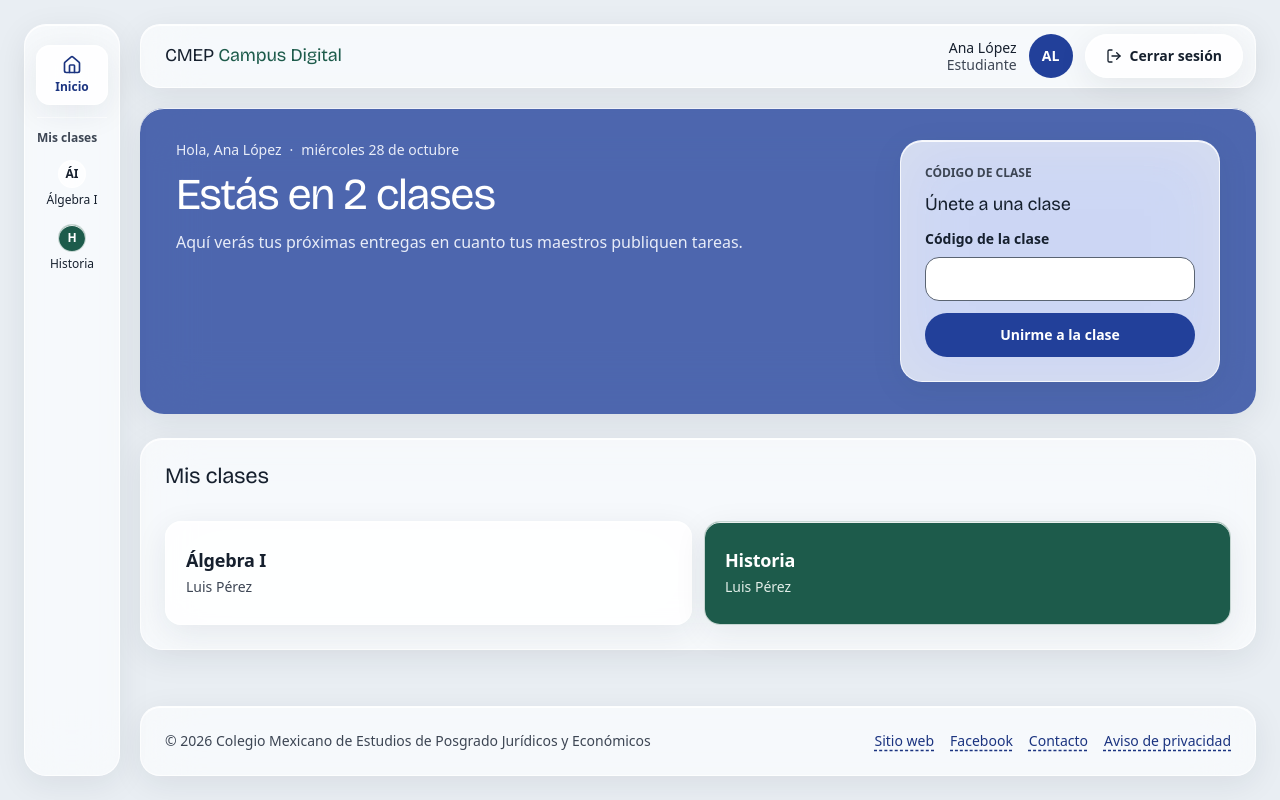
Scenario: ataque CLASES-02d r1: la barra al navegar, al unirse y al cambiar de cuenta › inicio → clase (por la tarjeta) → Personas → Muro → otra clase (por la barra) → Inicio: una sola petición de la barra
Click the link "Álgebra I Luis Pérez": (226, 560) x1=165 y1=521 x2=692 y2=625
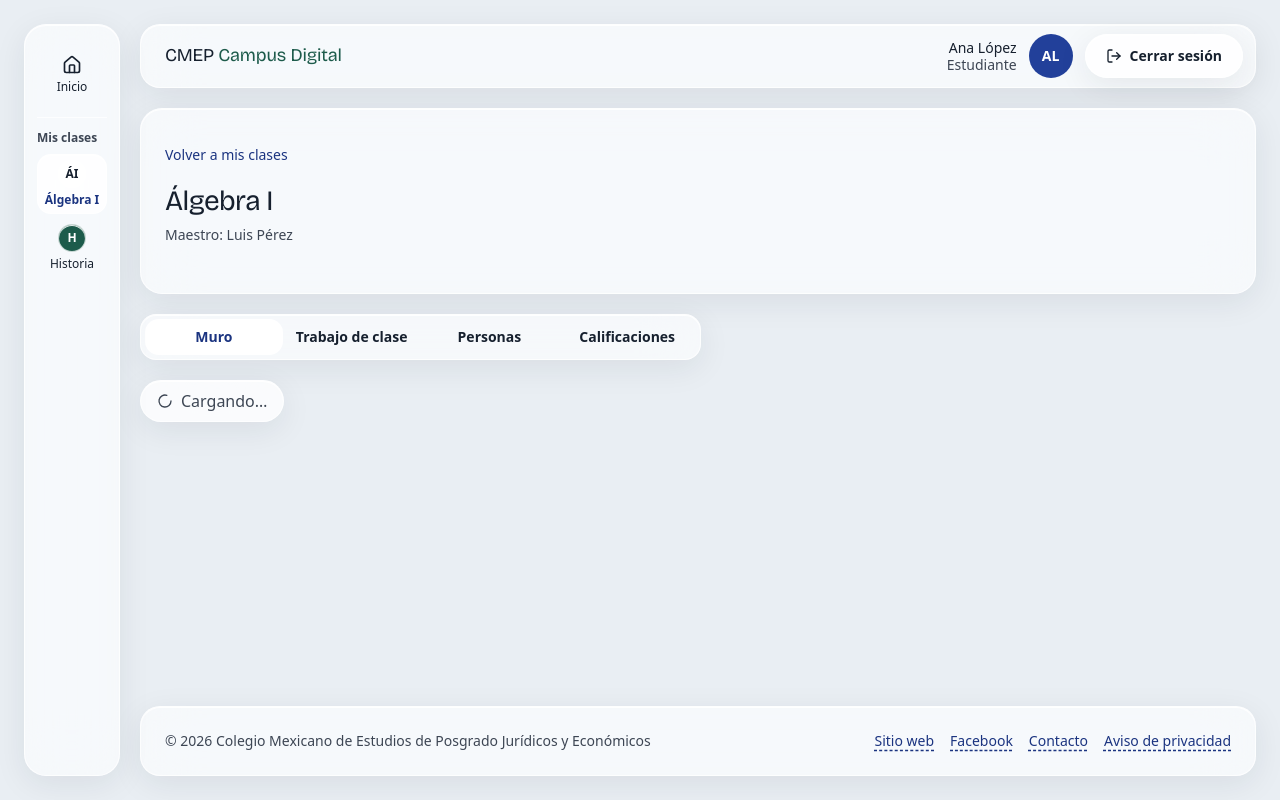
Expected: the heading "Álgebra I" is shown, x1=165 y1=184 x2=273 y2=218
Click the link "Personas": (489, 337) x1=458 y1=327 x2=521 y2=346
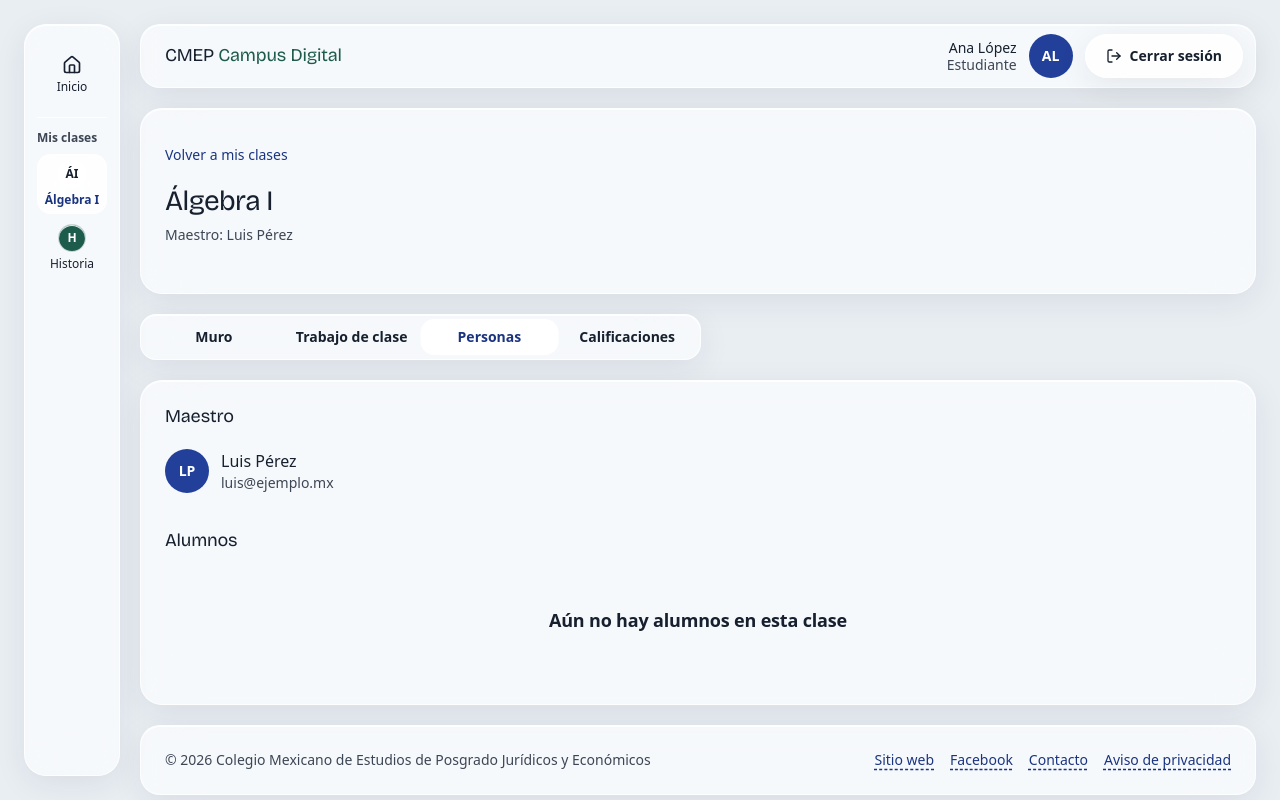
Expected: the heading "Alumnos" is shown, x1=165 y1=529 x2=237 y2=553
Click the link "Muro": (214, 337) x1=195 y1=327 x2=232 y2=346
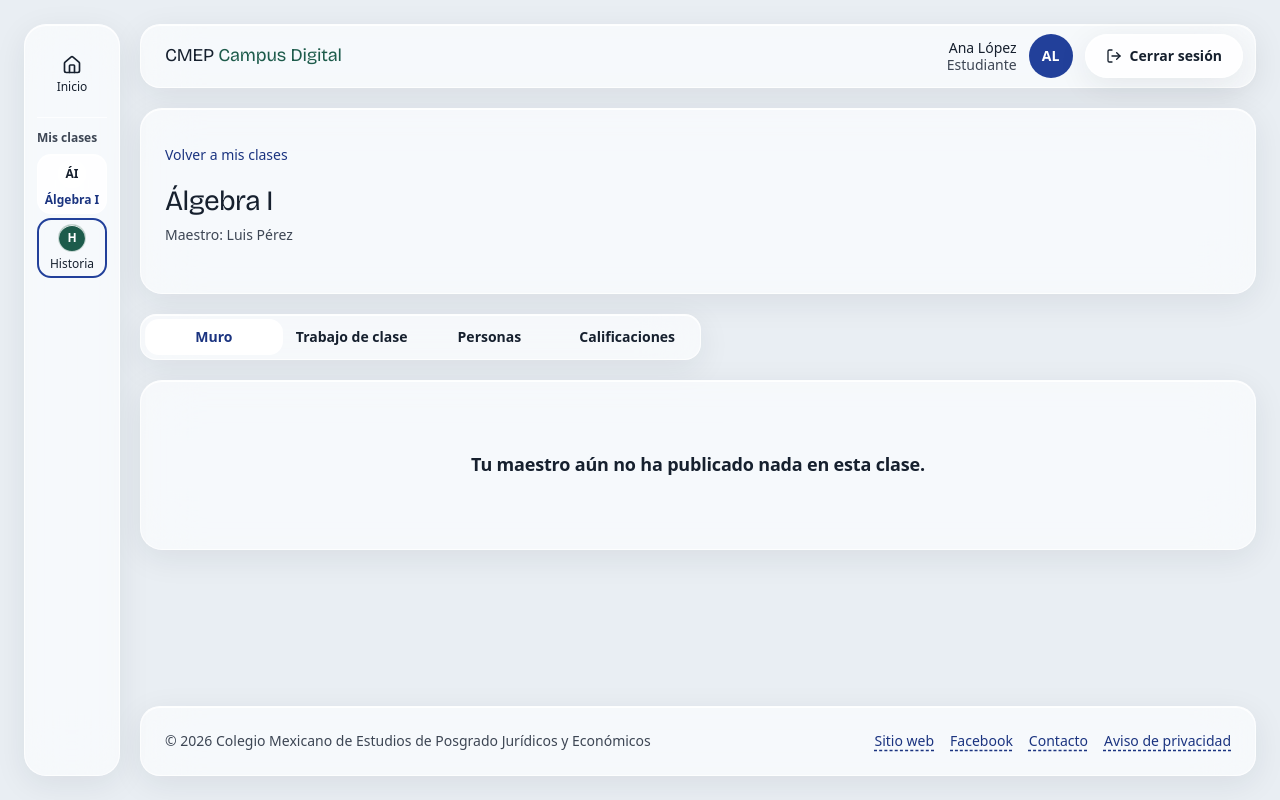
Click the link "H Historia": (72, 248) x1=50 y1=224 x2=94 y2=272
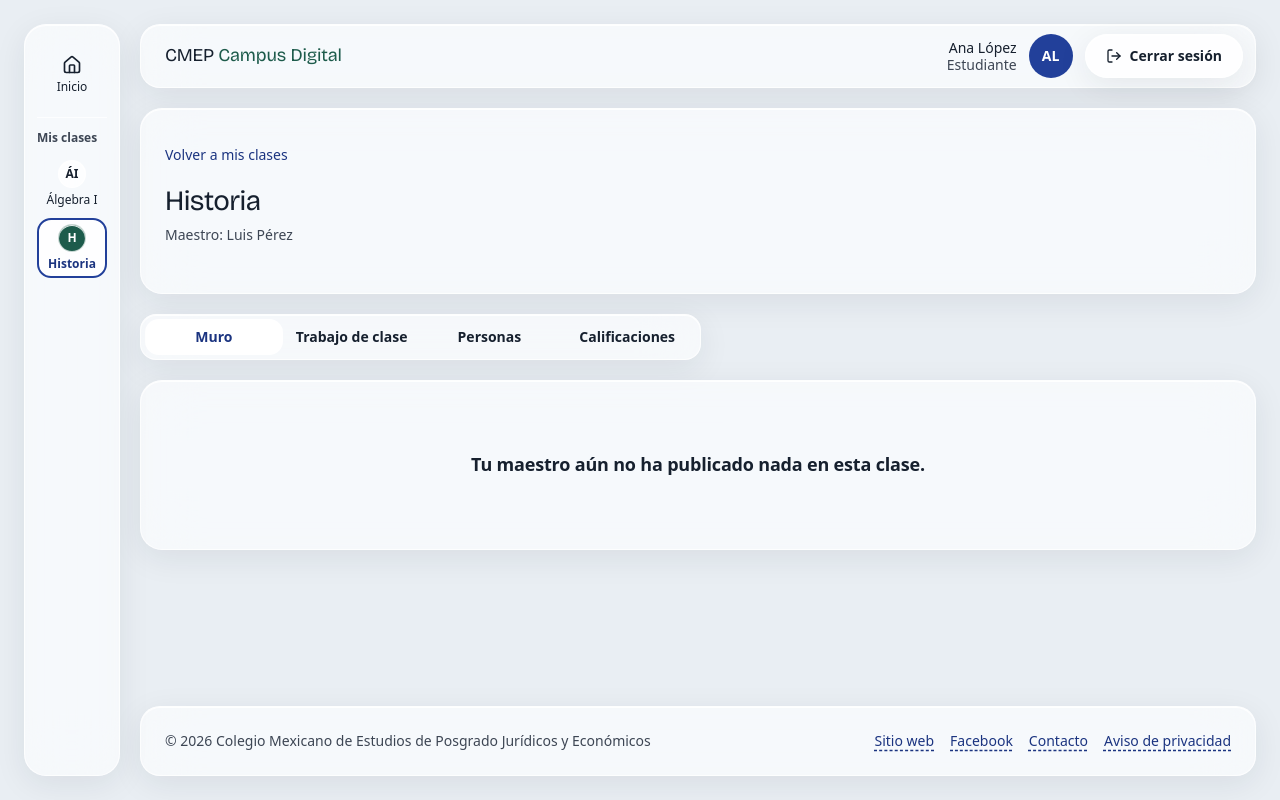
Expected: the heading "Historia" is shown, x1=165 y1=184 x2=260 y2=218
Click the link "Inicio": (72, 75) x1=57 y1=55 x2=87 y2=95
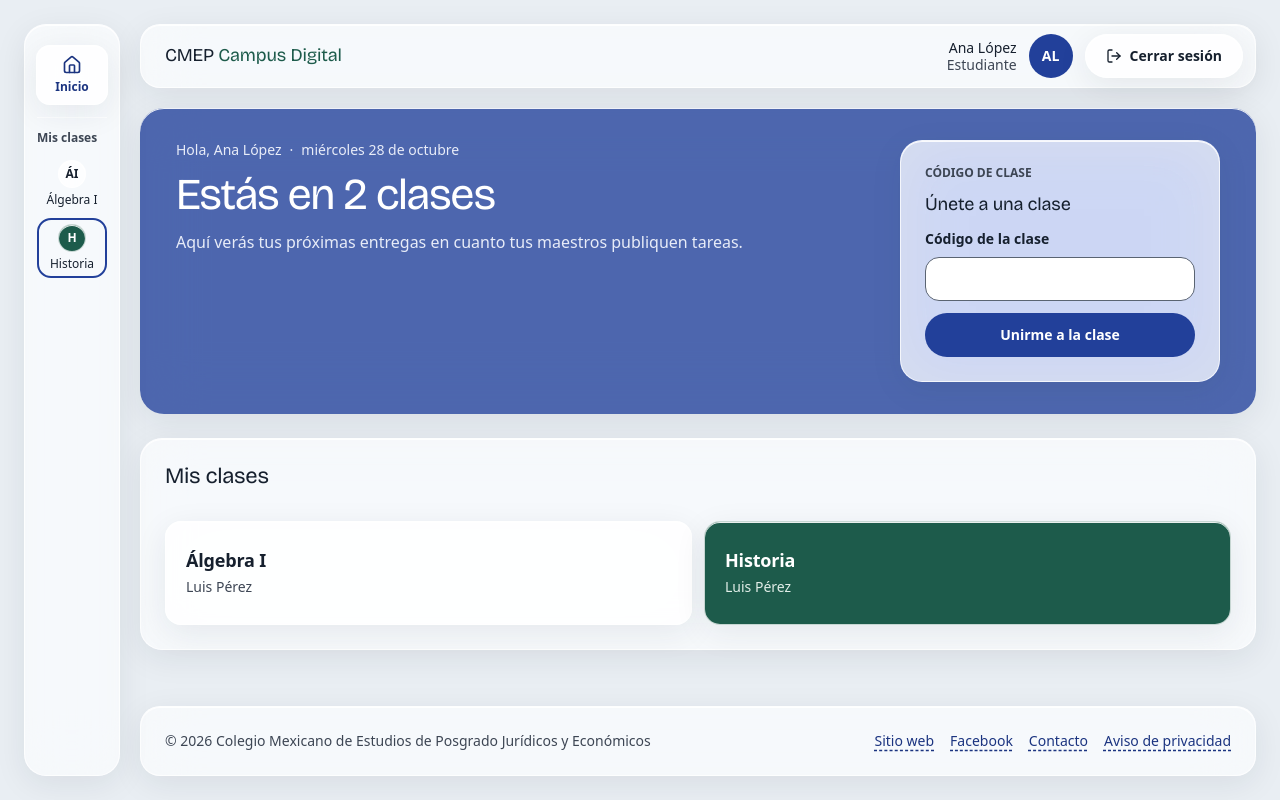
Expected: the field labelled "Código de la clase" is shown, x1=925 y1=257 x2=1195 y2=301
